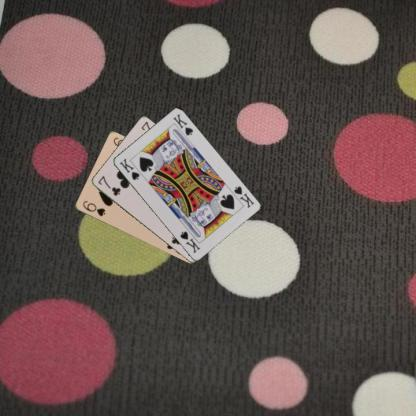6s: (80, 198, 106, 218)
7c: (95, 173, 121, 197)
Ks: (231, 183, 255, 209), (117, 156, 140, 182)
